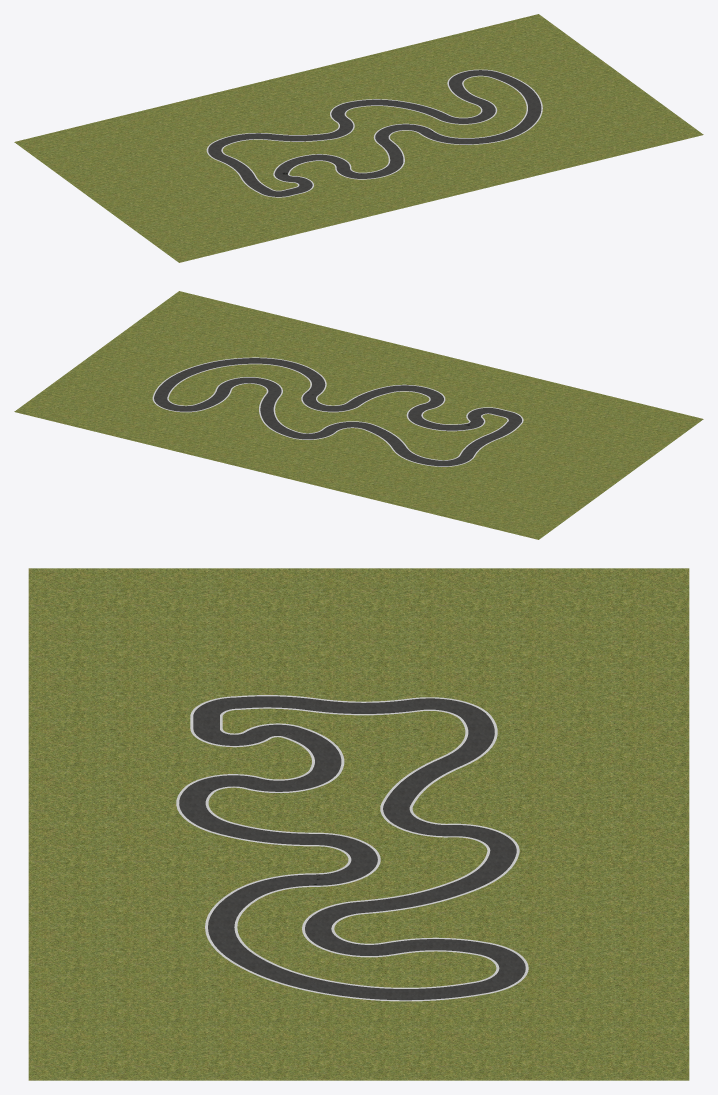
Rendered from track18.dae.
3 renders of one model, top to bottom at view 1: azimuth 30°, elevation 25°; view 2: azimuth 150°, elevation 25°; view 3: azimuth 270°, elevation 25°, orthographic. The views are drawn at different scales.
Parts seen in each view (by area): view 1: field, road, outerline, innerline; view 2: field, road, outerline, innerline; view 3: field, road, outerline, innerline.
Boxes of the visible parts, <box> form: field: <box>14,14,703,262</box>; road: <box>208,70,541,196</box>; outerline: <box>206,69,542,197</box>; innerline: <box>221,75,527,191</box>; field: <box>14,291,703,539</box>; road: <box>154,358,521,466</box>; outerline: <box>152,357,523,466</box>; innerline: <box>167,363,508,460</box>; field: <box>28,568,689,1080</box>; road: <box>179,696,525,1000</box>; outerline: <box>176,695,528,1001</box>; innerline: <box>205,707,499,988</box>.
Size of the model in its own units: 74.83 by 40.8 by 0.01.
Materials: 3 (3 with a texture image).
